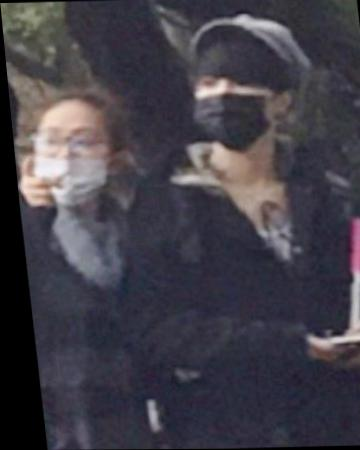OK: (188, 71, 274, 152)
WRONG: (27, 122, 119, 202)
